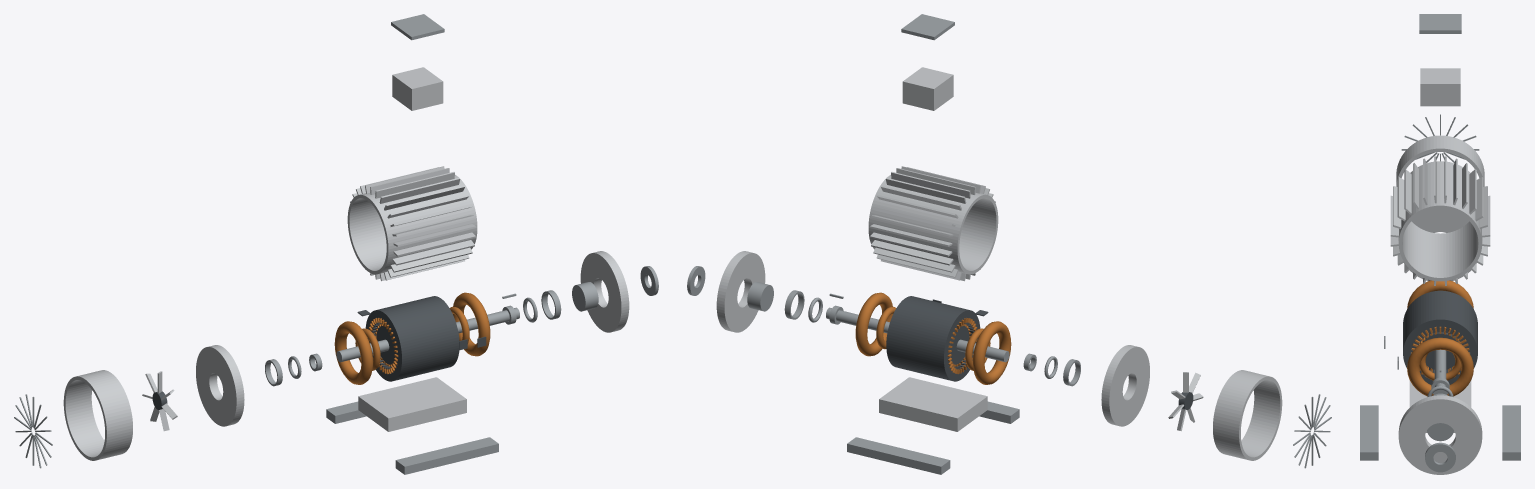
Rendered from Induction_Motor_Exploded.glb.
3 renders of one model, left to right at view 1: azimuth 30°, elevation 25°; view 2: azimuth 150°, elevation 25°; view 3: azimuth 270°, elevation 25°, orthographic. The views are drawn at different scales.
Visible parts, largest first — view 1: Frame_Fins, Frame_Housing, Stator_Core, Fan_Cowl, Foot_Bridge, Non_Drive_End_Bell, Drive_End_Bell, Terminal_Box, Mounting_Foot_Front, Winding_Non_Drive_End, Winding_Drive_End, Fan_Cowl_Grille (+3 smaller); view 2: Frame_Fins, Frame_Housing, Stator_Core, Fan_Cowl, Foot_Bridge, Non_Drive_End_Bell, Drive_End_Bell, Terminal_Box, Mounting_Foot_Rear, Winding_Non_Drive_End, Winding_Drive_End, Fan_Cowl_Grille (+3 smaller); view 3: Frame_Housing, Drive_End_Bell, Frame_Fins, Stator_Core, Winding_Drive_End, Fan_Cowl, Terminal_Box, Non_Drive_End_Bell, Mounting_Foot_Front, Mounting_Foot_Rear, Terminal_Box_Lid, Winding_Non_Drive_End (+8 smaller).
Boxes of the visible parts, x1,y1,x2,y2 form: Frame_Fins: (350,166,476,281); Frame_Housing: (347,175,477,274); Stator_Core: (365,296,459,381); Fan_Cowl: (63,370,132,460); Foot_Bridge: (358,377,466,431); Non_Drive_End_Bell: (196,345,244,426); Drive_End_Bell: (580,251,629,332); Terminal_Box: (392,67,443,110); Mounting_Foot_Front: (395,437,498,474); Winding_Non_Drive_End: (334,321,372,384); Winding_Drive_End: (453,292,490,356); Fan_Cowl_Grille: (14,394,52,468); Frame_Fins: (869,166,995,281); Frame_Housing: (868,175,998,274); Stator_Core: (886,296,980,381); Fan_Cowl: (1213,370,1282,460); Foot_Bridge: (879,377,987,431); Non_Drive_End_Bell: (1101,345,1149,426); Drive_End_Bell: (716,251,765,332); Terminal_Box: (902,67,953,110); Mounting_Foot_Rear: (847,437,950,474); Winding_Non_Drive_End: (973,321,1011,384); Winding_Drive_End: (855,292,892,356); Fan_Cowl_Grille: (1293,394,1331,468); Frame_Housing: (1398,161,1482,281); Drive_End_Bell: (1398,395,1482,474); Frame_Fins: (1390,156,1490,285); Stator_Core: (1403,290,1477,384); Winding_Drive_End: (1407,337,1473,396); Fan_Cowl: (1396,135,1484,186); Terminal_Box: (1420,68,1460,106); Non_Drive_End_Bell: (1404,209,1476,280); Mounting_Foot_Front: (1360,405,1378,460); Mounting_Foot_Rear: (1502,405,1520,460); Terminal_Box_Lid: (1419,14,1461,33); Winding_Non_Drive_End: (1407,280,1473,308).
Bounding box in the file's own units: 2.36 × 1.49 × 0.52.
